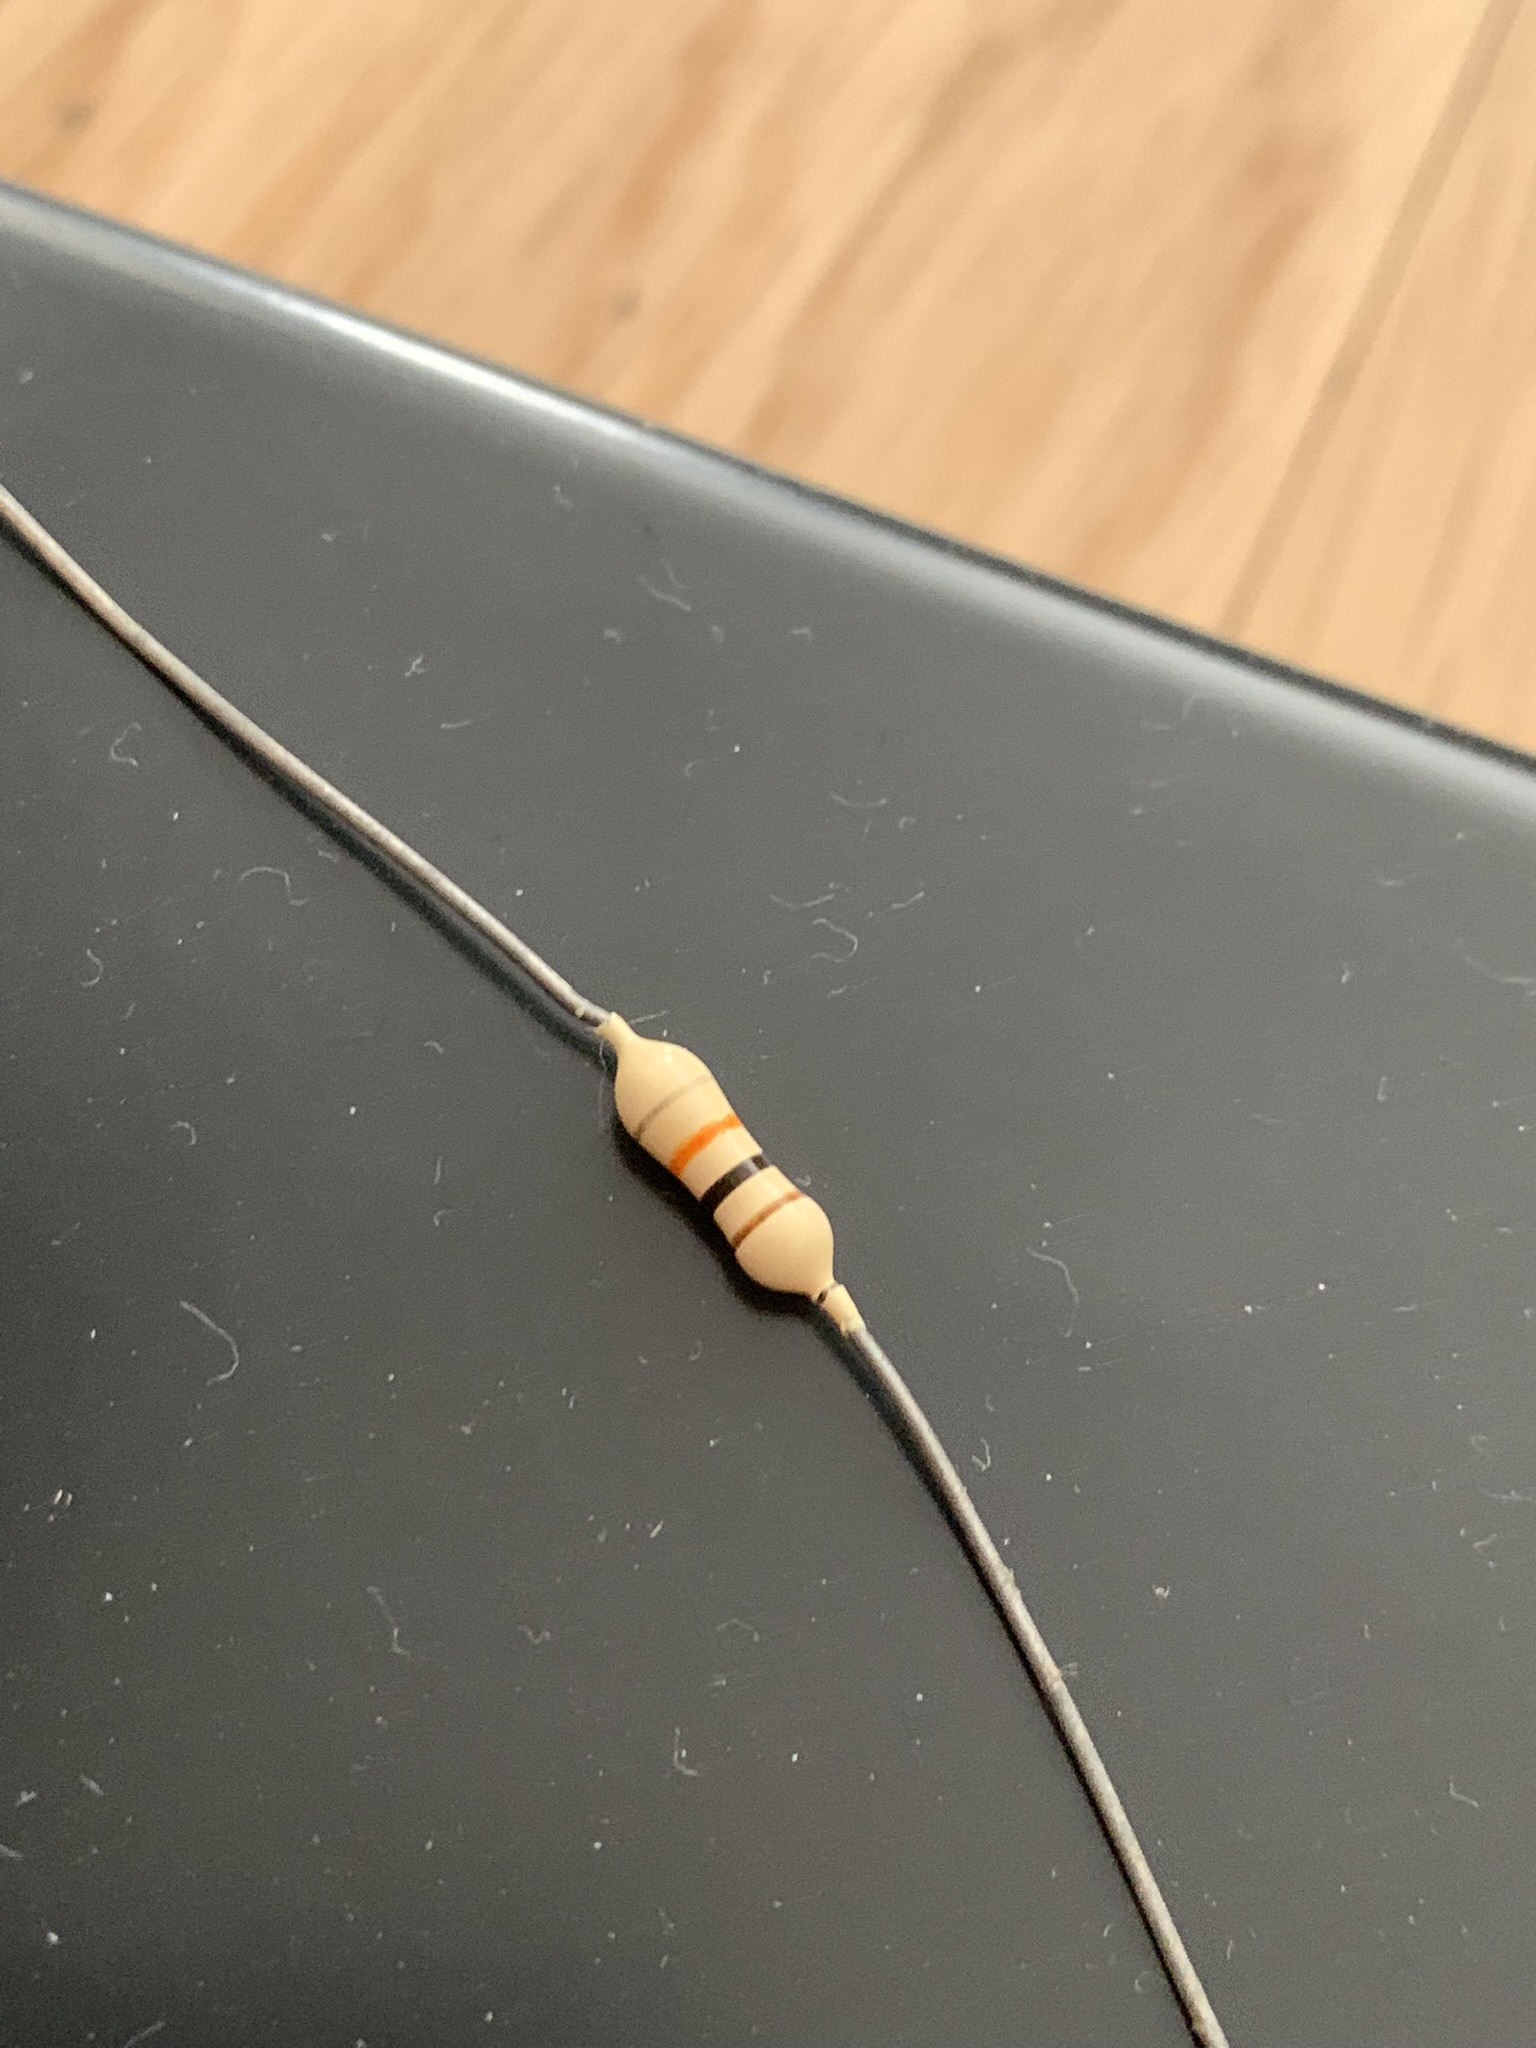resistor_thd: (615, 1042, 836, 1292)
